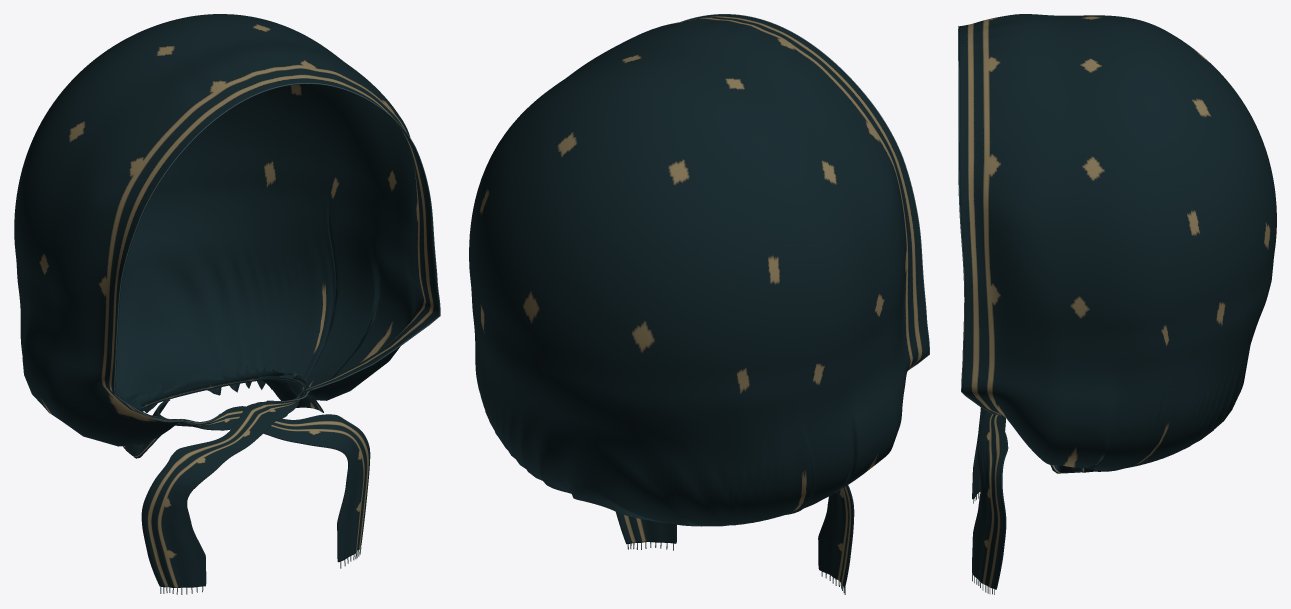
File: Masculine-Masculine-flow-jersey-pashmina250-headgear-2b596f3f.glb
The picture shows the model from 3 angles, left to right: view 1: azimuth 30°, elevation 25°; view 2: azimuth 150°, elevation 25°; view 3: azimuth 270°, elevation 25°; orthographic projection. The views are drawn at different scales.
Visible parts, largest first — view 1: 226 headgear / Headwear / continuous woven pashmina239, 226 headgear / Headwear / face edge239; view 2: 226 headgear / Headwear / continuous woven pashmina239, 226 headgear / Headwear / face edge239; view 3: 226 headgear / Headwear / continuous woven pashmina239, 226 headgear / Headwear / face edge239.
Boxes of the visible parts, left/top/right/bottom form: 226 headgear / Headwear / continuous woven pashmina239: left=14, top=14, right=439, bottom=587; 226 headgear / Headwear / face edge239: left=114, top=83, right=440, bottom=423; 226 headgear / Headwear / continuous woven pashmina239: left=469, top=14, right=928, bottom=587; 226 headgear / Headwear / face edge239: left=681, top=14, right=929, bottom=370; 226 headgear / Headwear / continuous woven pashmina239: left=959, top=14, right=1276, bottom=589; 226 headgear / Headwear / face edge239: left=958, top=26, right=1003, bottom=415.
Bounding box in the file's own units: 0.9072 × 1.24 × 0.6906.
Materials: 3 (1 with a texture image).
